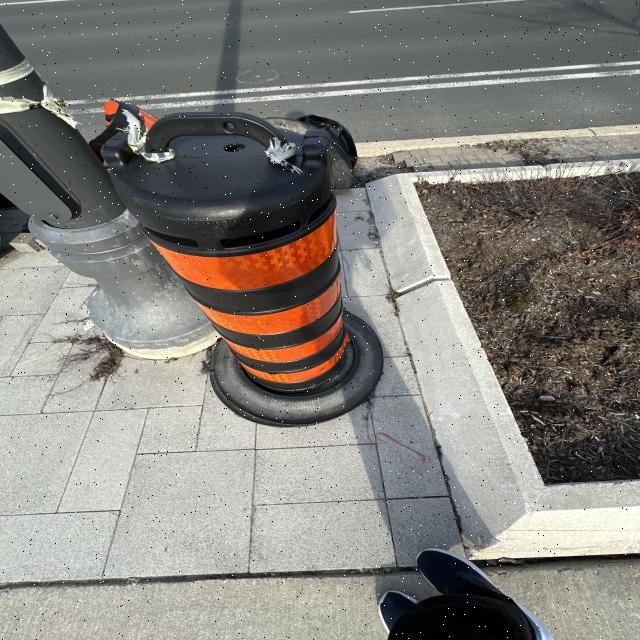Teraffic Barrel: (102, 113, 382, 426)
